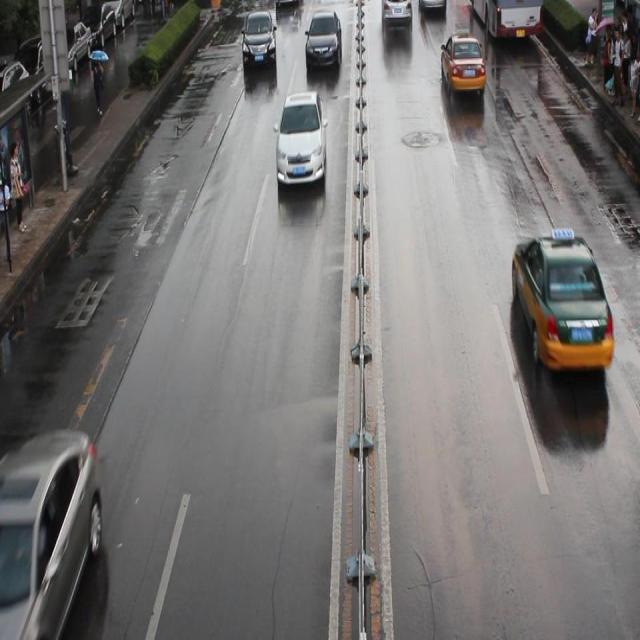car: (0, 426, 103, 640), (511, 232, 612, 369), (274, 91, 326, 188), (440, 33, 485, 90), (304, 12, 342, 70), (241, 9, 276, 69), (380, 1, 411, 27), (418, 1, 446, 13)
van: (468, 1, 541, 37)
